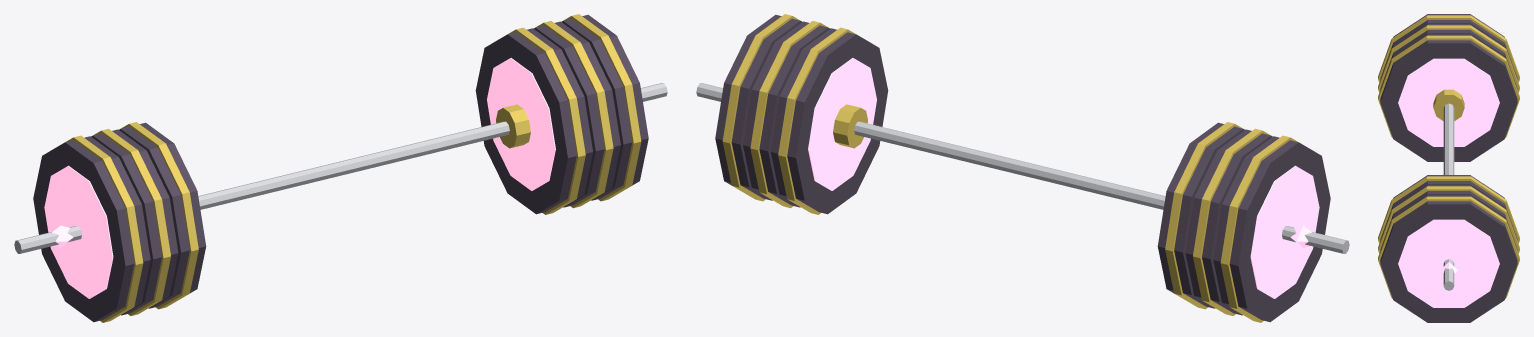
Rendered from VoidEmperor_Barbell.fbx.
3 renders of one model, left to right at view 1: azimuth 30°, elevation 25°; view 2: azimuth 150°, elevation 25°; view 3: azimuth 270°, elevation 25°, orthographic. The views are drawn at different scales.
Visible parts, largest first — view 1: VoidEmperor_Plates, VoidEmperor_Collars, VoidEmperor_Glow.001, VoidEmperor_Bar; view 2: VoidEmperor_Plates, VoidEmperor_Collars, VoidEmperor_Glow.001, VoidEmperor_Bar; view 3: VoidEmperor_Plates, VoidEmperor_Glow.001, VoidEmperor_Collars, VoidEmperor_Bar.
Part boxes in pixels (x1,y1,x2,y2): VoidEmperor_Plates: (33, 14, 648, 322); VoidEmperor_Collars: (64, 14, 641, 322); VoidEmperor_Glow.001: (44, 58, 555, 298); VoidEmperor_Bar: (14, 83, 667, 253); VoidEmperor_Plates: (715, 14, 1330, 322); VoidEmperor_Collars: (722, 14, 1299, 322); VoidEmperor_Glow.001: (808, 58, 1319, 298); VoidEmperor_Bar: (696, 83, 1349, 253); VoidEmperor_Plates: (1380, 14, 1517, 322); VoidEmperor_Glow.001: (1398, 58, 1499, 307); VoidEmperor_Collars: (1378, 15, 1519, 298); VoidEmperor_Bar: (1443, 103, 1454, 290).
Bounding box in the file's own units: 8.6 × 2.09 × 2.2.
